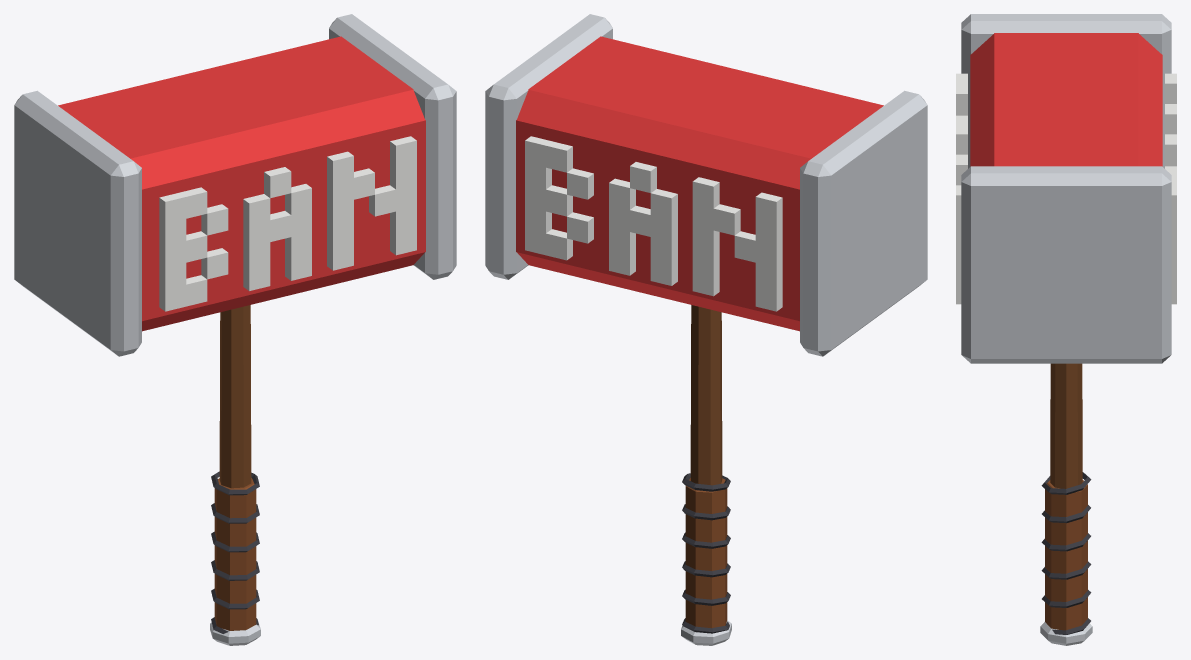
Rendered from Banhammer.fbx.
3 views of the same model, side by side, from view 1: azimuth 30°, elevation 25°; view 2: azimuth 150°, elevation 25°; view 3: azimuth 270°, elevation 25° (orthographic).
Visible parts, largest first — view 1: Banhammer; view 2: Banhammer; view 3: Banhammer.
Boxes of the visible parts, x1,y1,x2,y2 form: Banhammer: (14,14,456,645); Banhammer: (485,14,927,645); Banhammer: (956,14,1176,645).
Bounding box in the file's own units: 3.3 × 5 × 1.84.
Materials: 1 (1 with a texture image).
